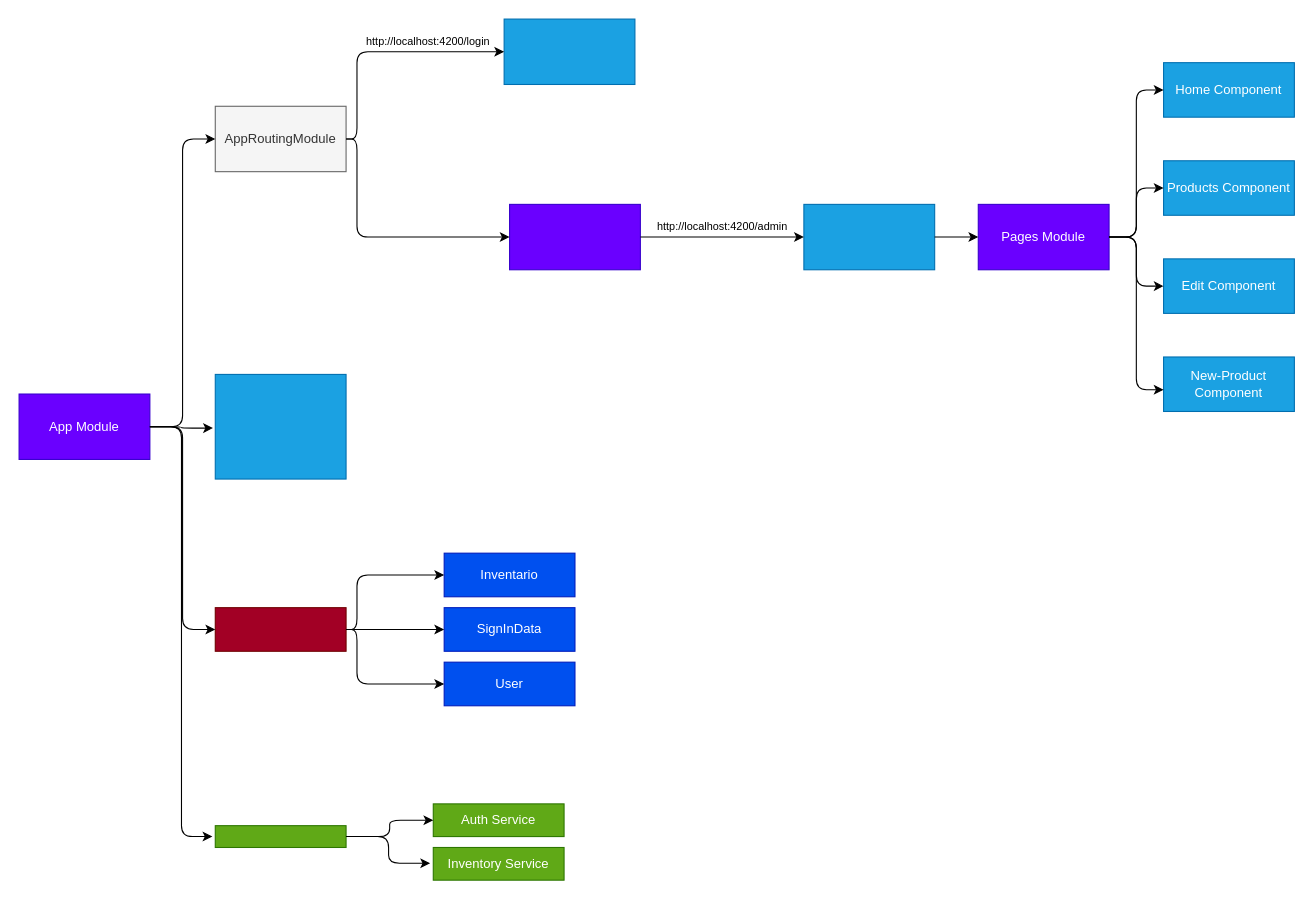
Image size: 1313x899. Some labels were removed from this diagram. The shapes that lost their labels are listed below. From the top down, each one's centre as x and y in pixels, then its label:
the point at 569,51: Login componet
the point at 574,236: Guards
the point at 869,236: Admin Componet
the point at 280,426: Declarations Components Directives Pipes
the point at 280,629: Models
the point at 280,836: Services
